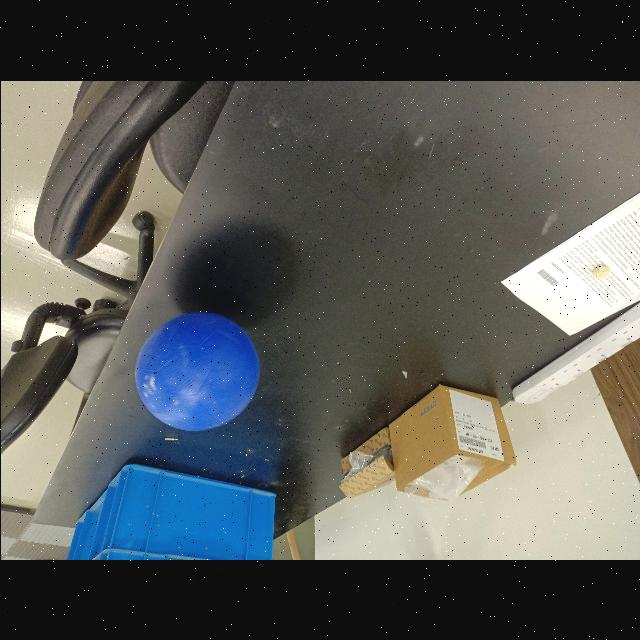B: (140, 312, 260, 436)
